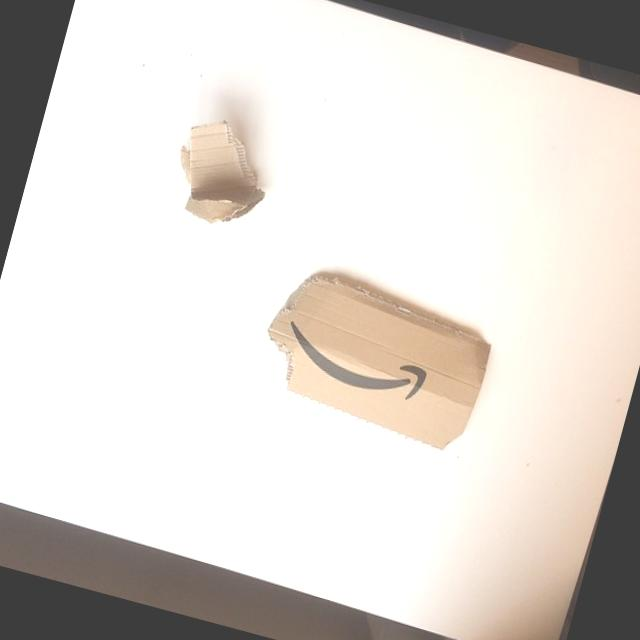Recycle: (246, 255, 504, 458), (160, 102, 282, 238)
